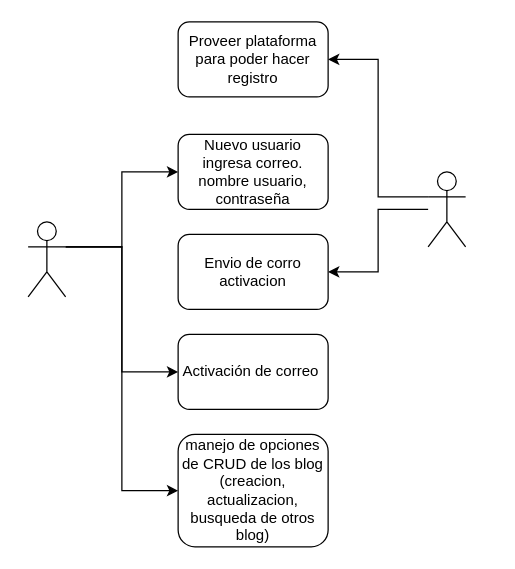
Some shapes in this 515 by 569 pixel diagram are drawn without their labels. Here are the shapes that lost their labels. From the top down, the centre of each, then its label:
(x=446, y=209): Administrador
(x=46, y=259): Usuario
